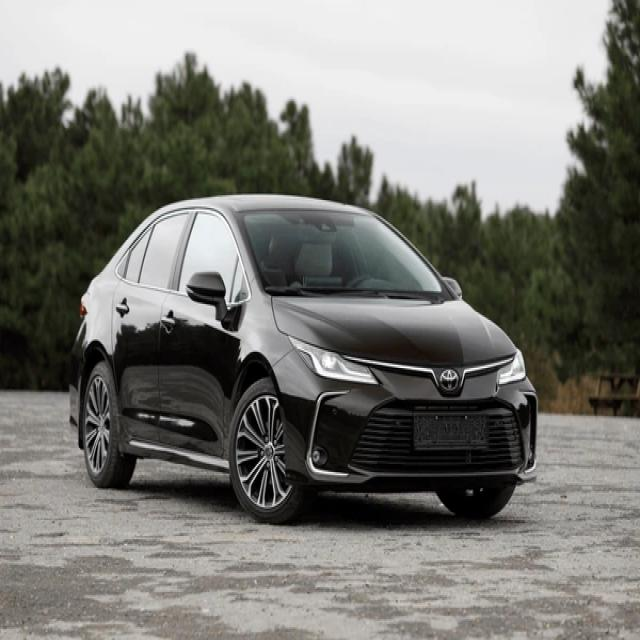toyota: (440, 366, 462, 401)
